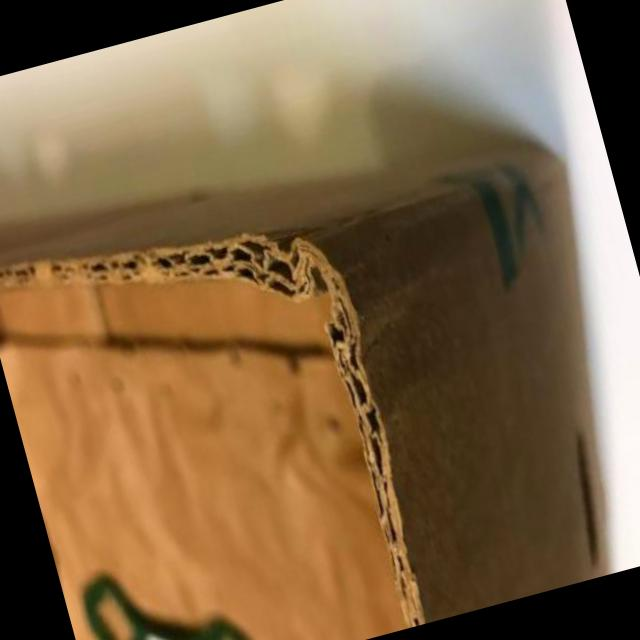cardboard paper: (0, 150, 606, 640)
